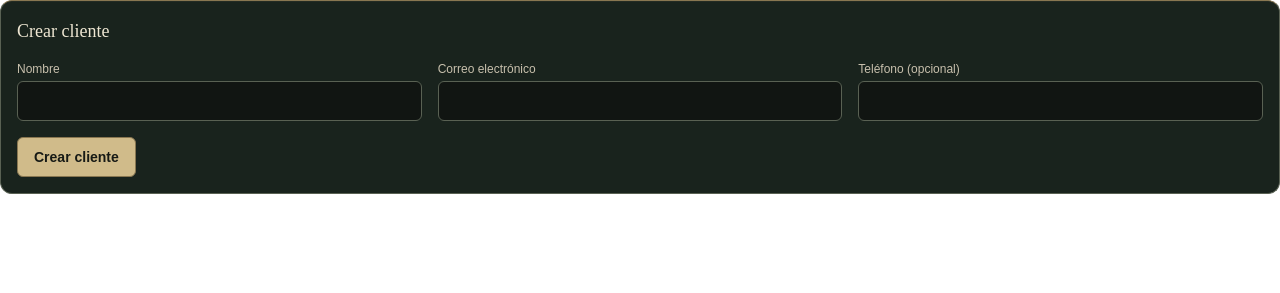
Test: creation still shows the server's duplicate email error
Type "Cliente" into the field labelled "Nombre" at (219, 101), box [17,81,422,121]
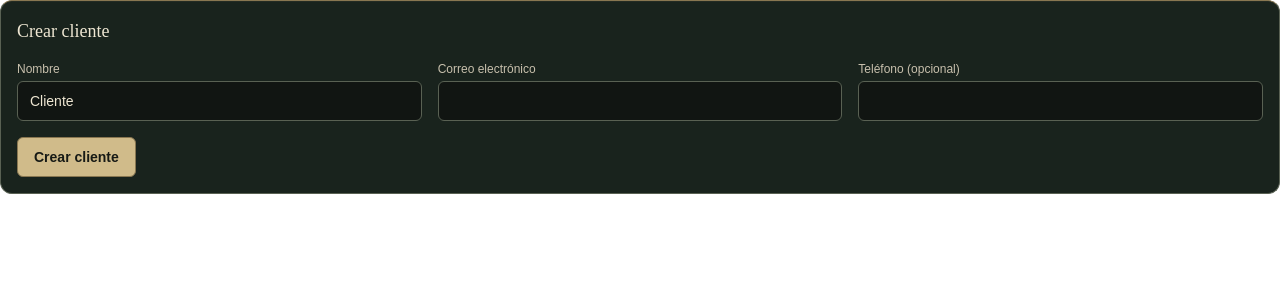
Type "cliente@example.test" into the field labelled "Correo electrónico" at (640, 101), box [438,81,842,121]
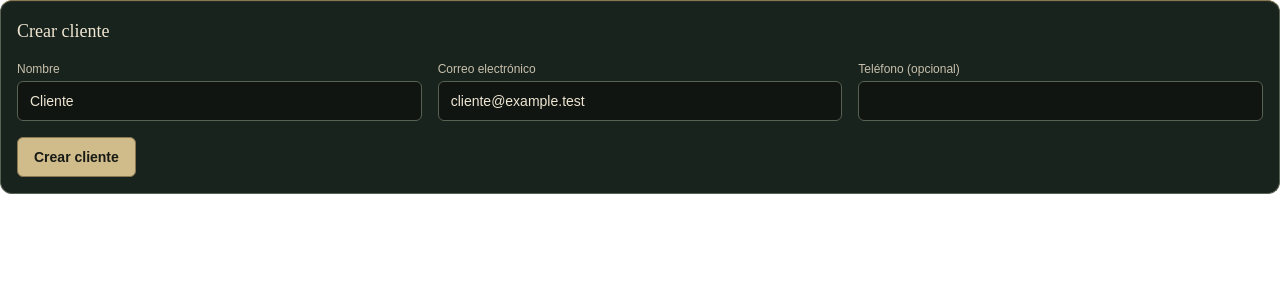
Submit the form, box [17,61,1263,177]
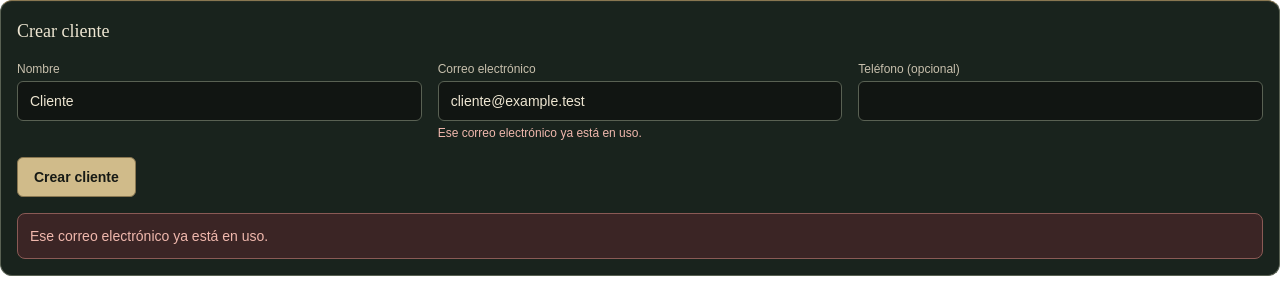
Result: the text "Ese correo electrónico ya está en uso." is shown at [438,126,642,140]
